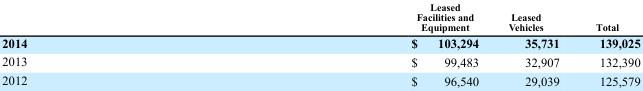table: (1, 0, 639, 87)
table column: (218, 0, 492, 87), (1, 0, 218, 87), (492, 0, 576, 87), (576, 0, 639, 87)
table column header: (1, 0, 639, 33)
table row: (1, 0, 639, 33), (1, 51, 639, 70), (1, 33, 639, 51), (1, 70, 639, 87)
